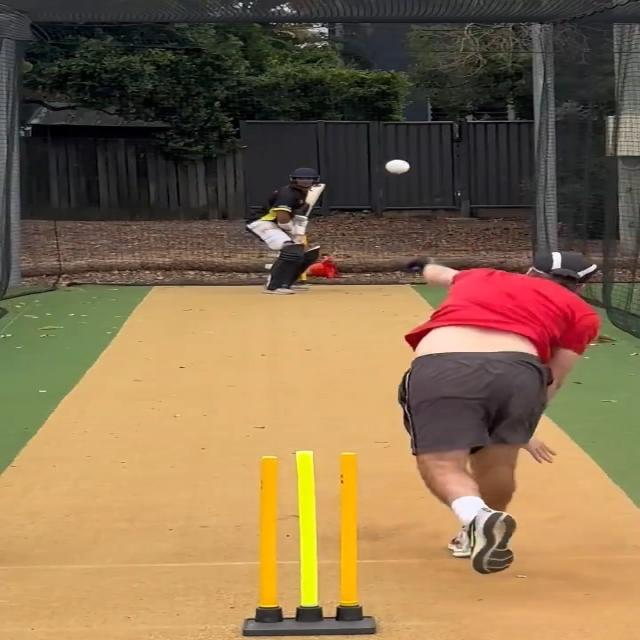ball: (380, 156, 412, 178)
stump: (242, 448, 381, 636)
